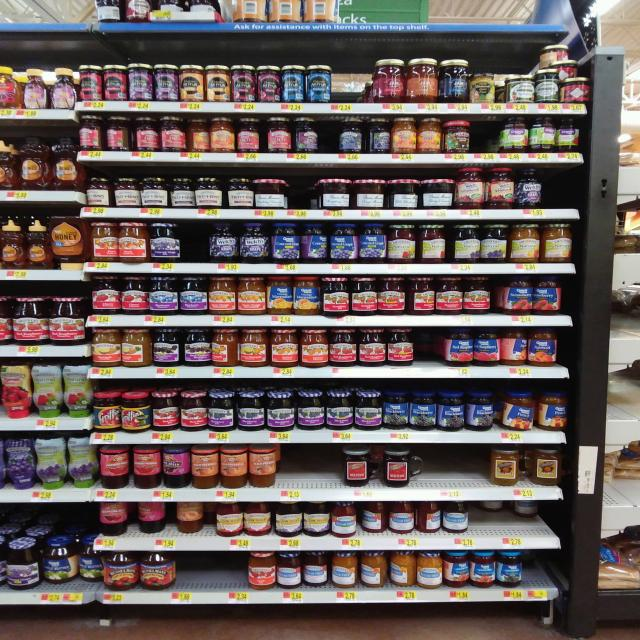void: (335, 61, 371, 120), (455, 448, 485, 511), (278, 448, 308, 508), (313, 448, 342, 510), (214, 553, 243, 611), (182, 554, 212, 608), (419, 447, 448, 502), (551, 170, 580, 222), (418, 329, 443, 386), (285, 173, 314, 221), (183, 222, 207, 277), (524, 554, 550, 602), (476, 116, 500, 166)
